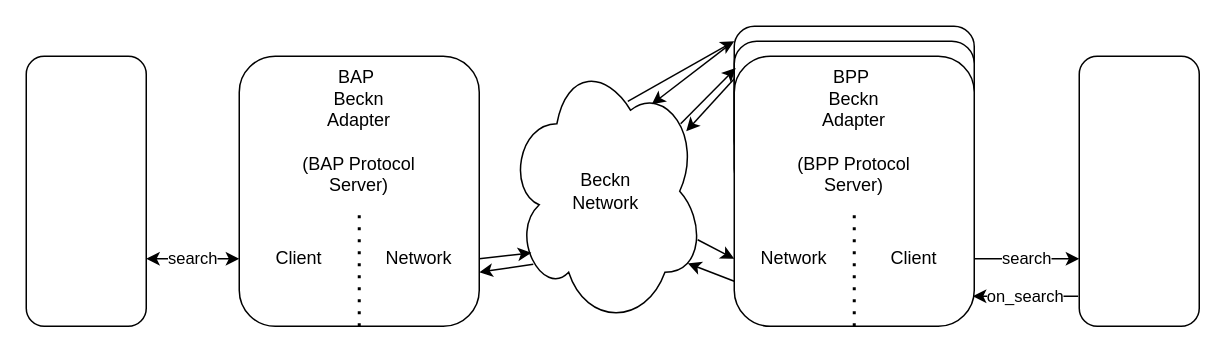
This 1226x356 diagram has some shape labels left out. The centre of each missing label's shape, as x and y in pixels:
BAP (Buyer side) Server: the point at 85,190
BPP (Seller side) Server: the point at 1138,190
